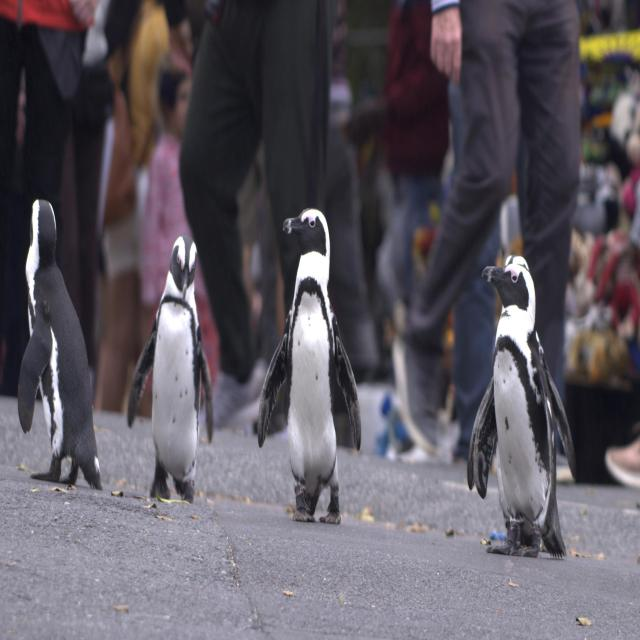penguin: (258, 208, 361, 524), (467, 256, 575, 557), (18, 200, 102, 489), (128, 236, 213, 503)
